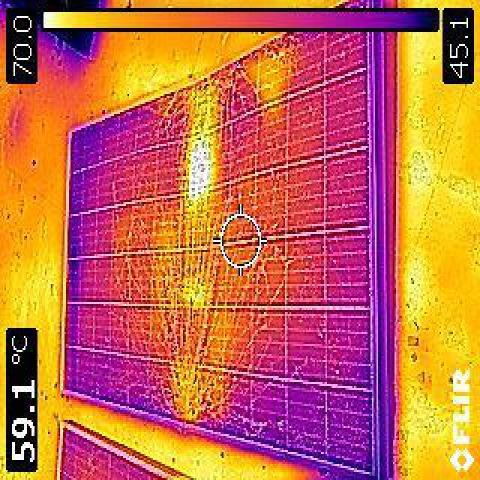fault: (186, 139, 210, 190), (190, 85, 214, 131)
